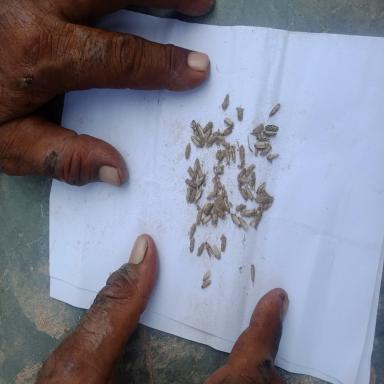pbw: (242, 183, 255, 201), (200, 212, 213, 229), (249, 213, 262, 230), (204, 236, 214, 258), (212, 205, 226, 220), (196, 169, 207, 186), (223, 150, 233, 168), (206, 132, 218, 147), (250, 132, 270, 141), (237, 216, 249, 231), (193, 188, 204, 204), (238, 185, 248, 202), (262, 189, 274, 203), (196, 118, 204, 138), (219, 138, 232, 150), (259, 144, 272, 156), (269, 103, 280, 117), (253, 193, 268, 203), (218, 193, 226, 211), (212, 244, 221, 260), (230, 212, 240, 226), (191, 135, 201, 149), (188, 223, 196, 240), (189, 120, 198, 135), (185, 178, 197, 189), (202, 121, 213, 133), (244, 164, 255, 176), (222, 125, 234, 136), (204, 202, 214, 215), (201, 269, 211, 282), (220, 234, 226, 255), (222, 94, 229, 112), (204, 127, 212, 142), (250, 263, 255, 287), (252, 123, 264, 133), (256, 182, 266, 194), (240, 210, 257, 217), (230, 144, 236, 163), (196, 242, 204, 256), (265, 124, 279, 132), (213, 185, 220, 201), (187, 166, 196, 178), (218, 148, 226, 161), (186, 185, 192, 202), (206, 191, 216, 201), (258, 201, 269, 210), (254, 141, 268, 148), (266, 153, 280, 160), (194, 158, 201, 172), (215, 174, 221, 190), (235, 204, 247, 212), (189, 188, 196, 201), (224, 201, 231, 214), (201, 280, 211, 289), (185, 143, 191, 158), (250, 172, 255, 190), (196, 211, 202, 226), (262, 130, 277, 136), (212, 213, 218, 228), (193, 132, 201, 143), (263, 202, 272, 211), (224, 117, 234, 125), (221, 183, 226, 199), (237, 177, 250, 183), (238, 168, 246, 177), (190, 237, 194, 253), (254, 148, 258, 156)
